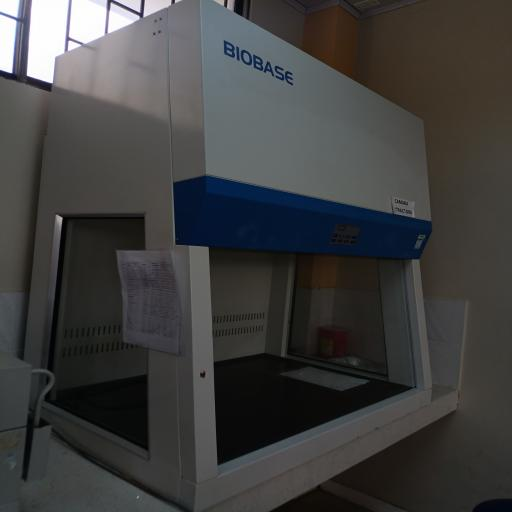Camara_Extractora_Biobase: (17, 11, 458, 509)
